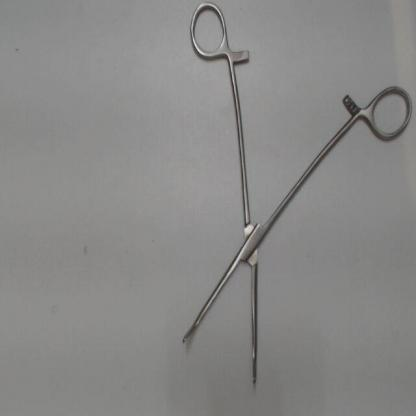Lahey Forceps: (168, 1, 414, 388)
